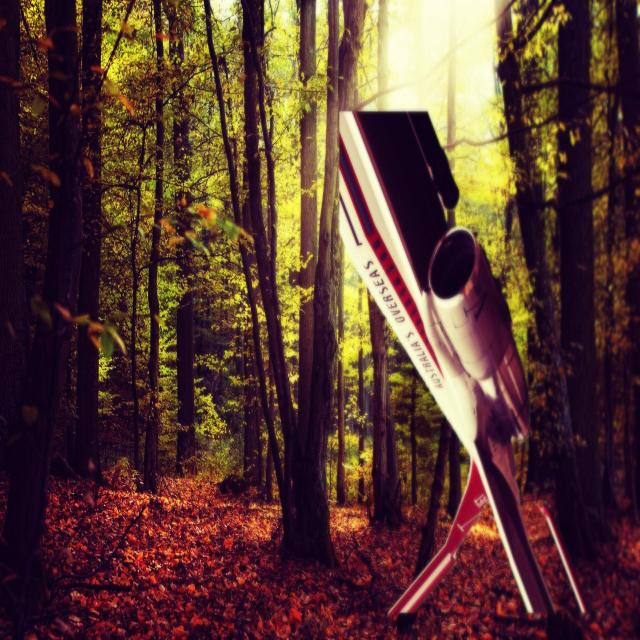airplane: (337, 108, 587, 627)
